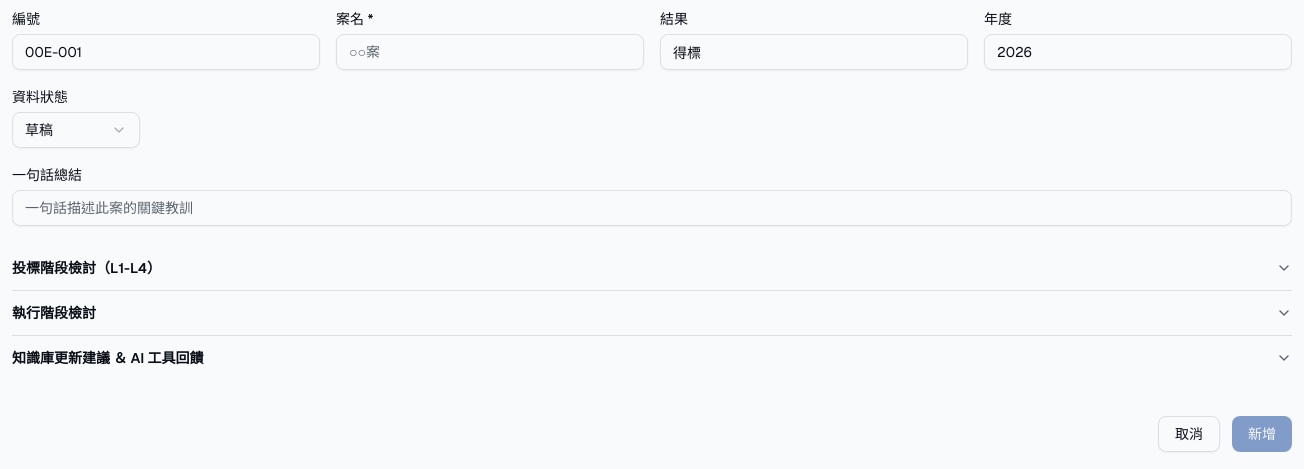
it: EntryEditor00E — 案後檢討 › 輸入案名後儲存按鈕可用
The image size is (1304, 469).
Type "食農教育案" into the field with placeholder "○○案".
click(490, 52); type("食農教育案")  # box x1=336 y1=34 x2=644 y2=70
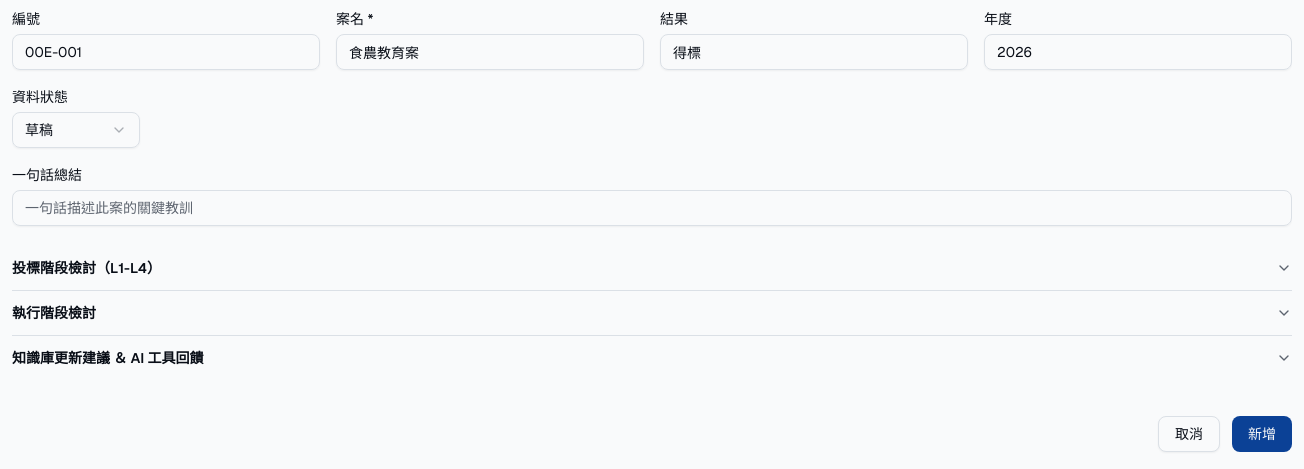
expect the button "新增" is enabled: met, box x1=1232 y1=416 x2=1292 y2=452
